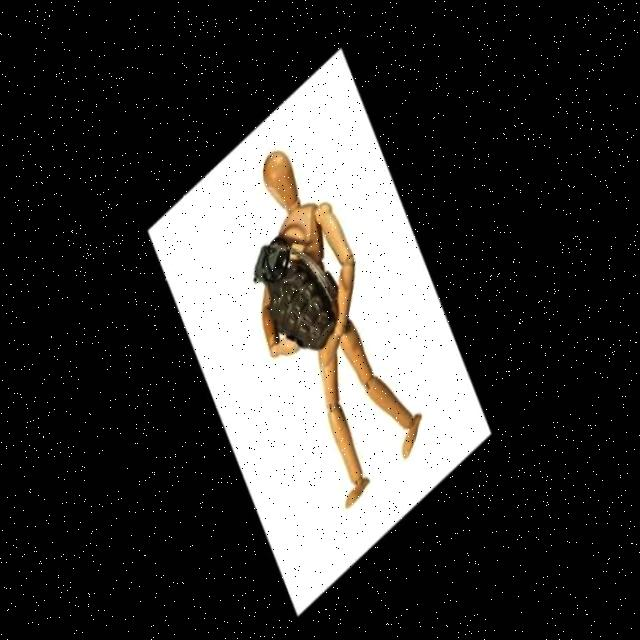grenade: (228, 223, 350, 354)
